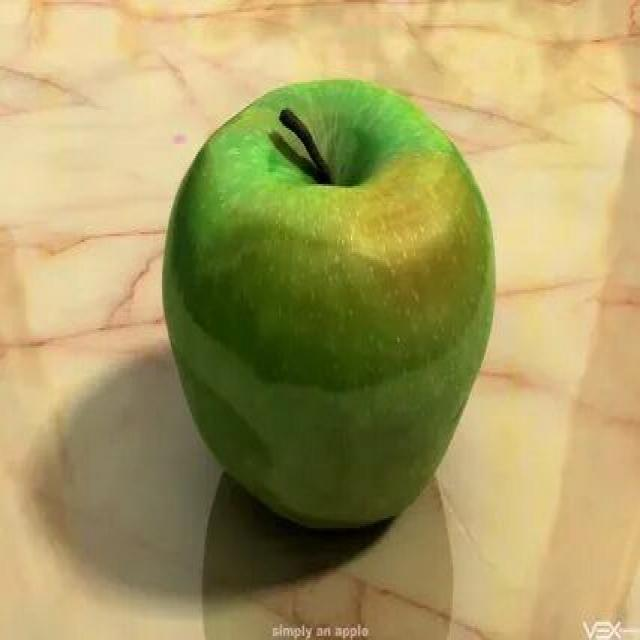Fresh Apple: (162, 93, 506, 517)
